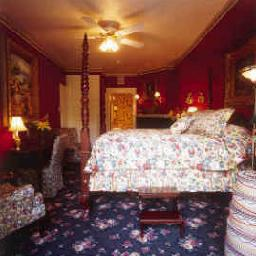Cama: (92, 130, 245, 197)
